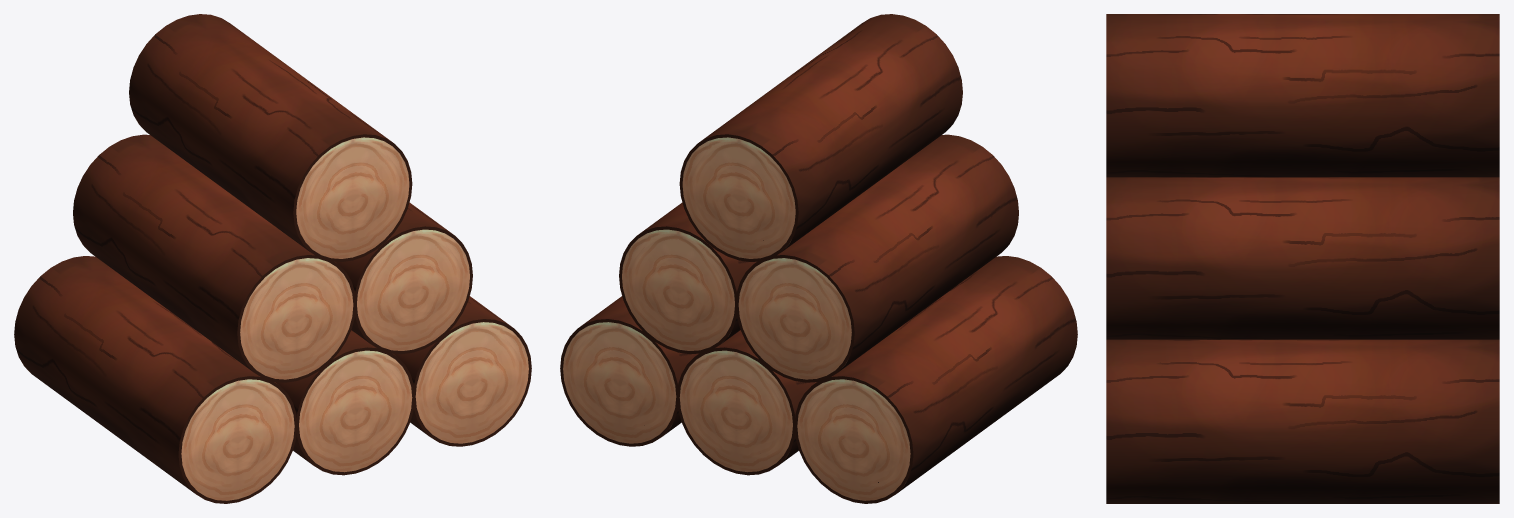
File: Pilha1.fbx
3 views of the same model, side by side, from view 1: azimuth 30°, elevation 25°; view 2: azimuth 150°, elevation 25°; view 3: azimuth 270°, elevation 25° (orthographic). The views are drawn at different scales.
Visible parts, largest first — view 1: pilha; view 2: pilha; view 3: pilha.
Part boxes in pixels (x1,y1,x2,y2): pilha: [14, 14, 531, 503]; pilha: [560, 14, 1077, 503]; pilha: [1106, 14, 1499, 503].
Size of the model in its own units: 110 by 101 by 88.88.
Materials: 1 (1 with a texture image).
